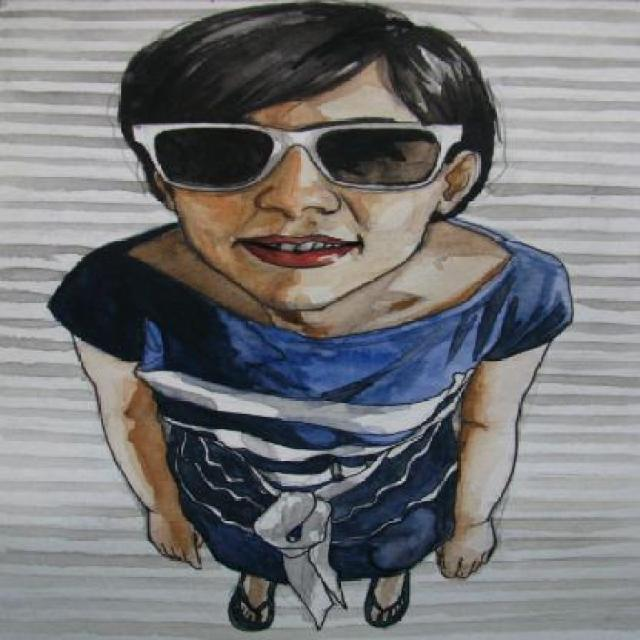Person: (39, 0, 596, 634)
